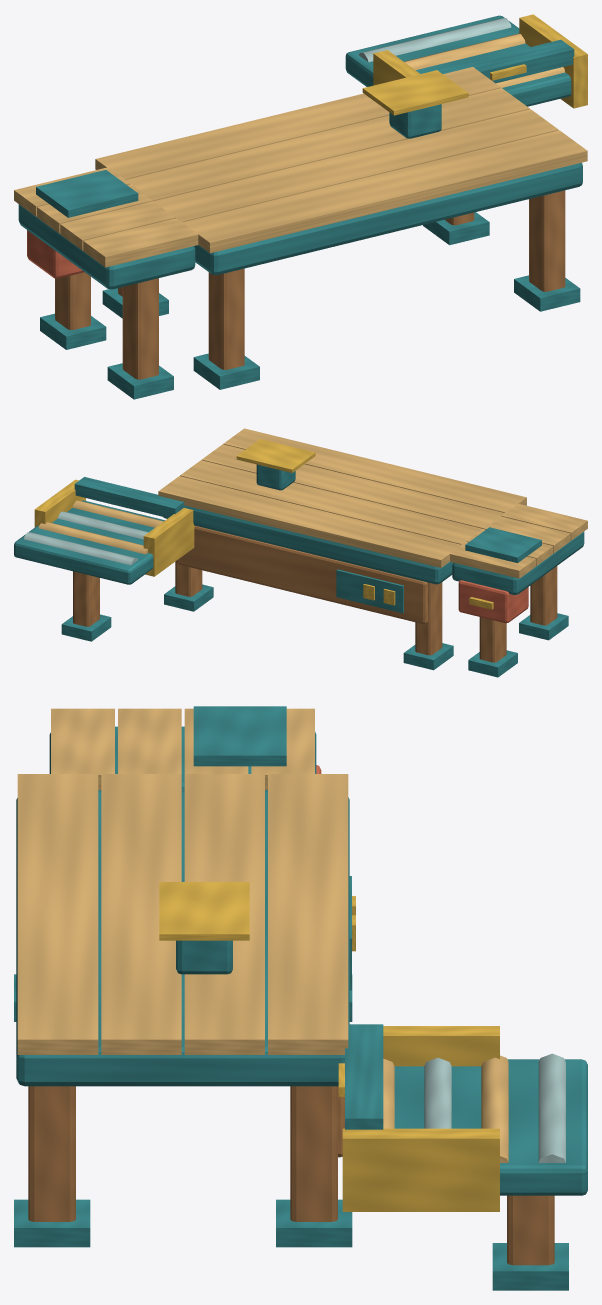
The model's file is industry-market-stall-tier-2.glb.
3 views of the same model, one above another, from view 1: azimuth 30°, elevation 25°; view 2: azimuth 150°, elevation 25°; view 3: azimuth 270°, elevation 25° (orthographic). The views are drawn at different scales.
Visible parts, largest first — view 1: industry-market-stall-tier-2-mesh; view 2: industry-market-stall-tier-2-mesh; view 3: industry-market-stall-tier-2-mesh.
Part boxes in pixels (bbox=[...]): industry-market-stall-tier-2-mesh: bbox=[14, 14, 587, 399]; industry-market-stall-tier-2-mesh: bbox=[14, 428, 587, 677]; industry-market-stall-tier-2-mesh: bbox=[14, 706, 587, 1290].
Size of the model in its own units: 4.08 by 1.25 by 2.41.
Materials: 1 (1 with a texture image).
